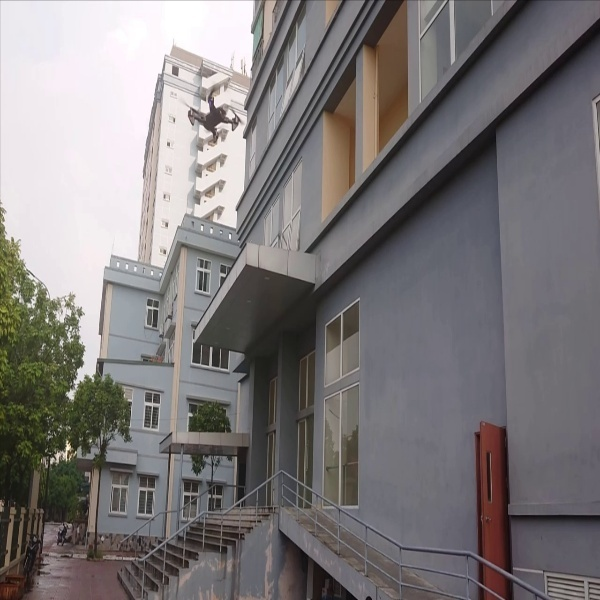drone: (184, 85, 245, 143)
